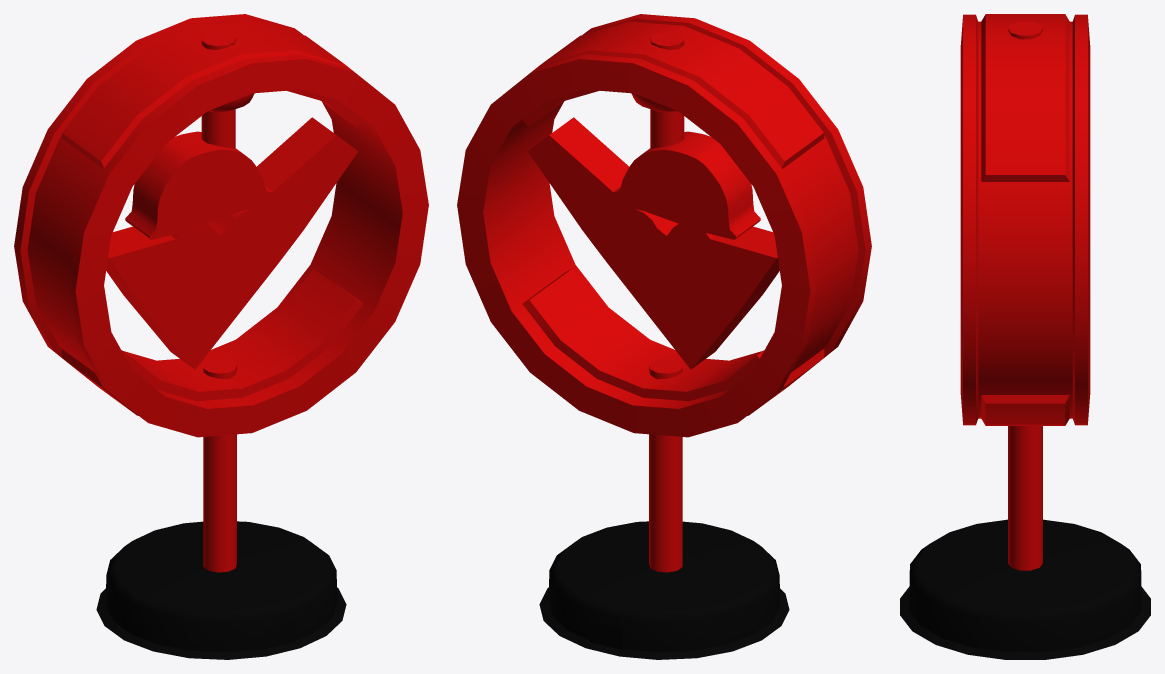
File: CheckitRotatingSign.fbx
3 renders of one model, left to right at view 1: azimuth 30°, elevation 25°; view 2: azimuth 150°, elevation 25°; view 3: azimuth 270°, elevation 25°, orthographic.
Visible parts, largest first — view 1: SM_ResourceSinkShop_01; view 2: SM_ResourceSinkShop_01; view 3: SM_ResourceSinkShop_01.
Boxes of the visible parts, x1=… form: SM_ResourceSinkShop_01: x1=14, y1=14, x2=428, y2=659; SM_ResourceSinkShop_01: x1=457, y1=14, x2=871, y2=659; SM_ResourceSinkShop_01: x1=900, y1=14, x2=1150, y2=659.
Bounding box in the file's own units: 137 × 212 × 83.19.
